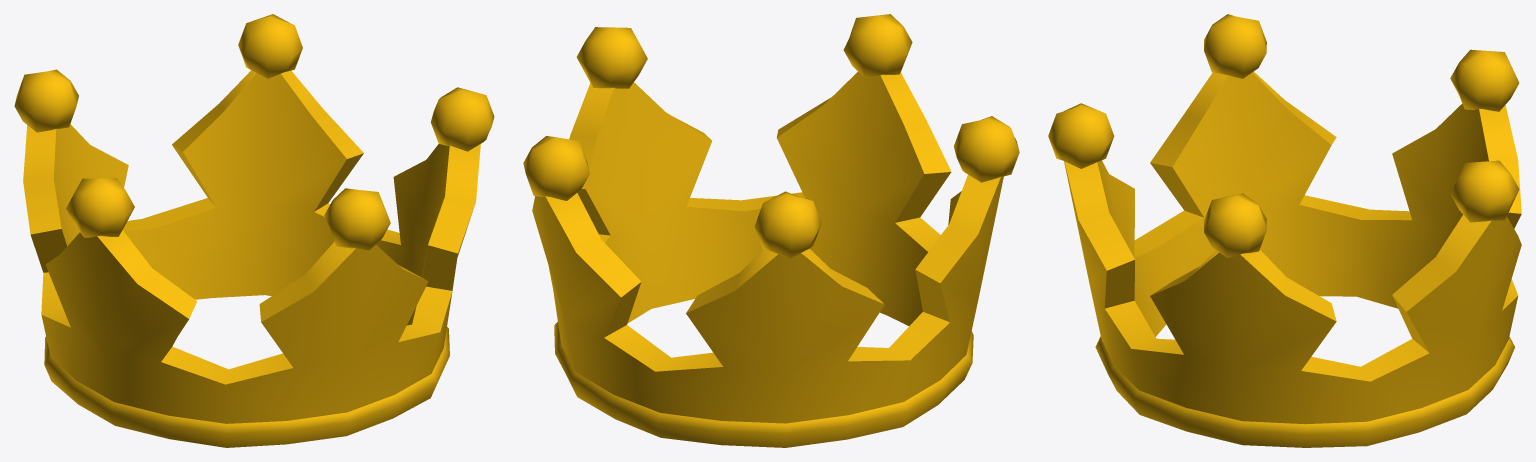
File: Headgear_48.fbx
The picture shows the model from 3 angles, left to right: view 1: azimuth 30°, elevation 25°; view 2: azimuth 150°, elevation 25°; view 3: azimuth 270°, elevation 25°; orthographic projection. The views are drawn at different scales.
Parts seen in each view (by area): view 1: Headgear_48; view 2: Headgear_48; view 3: Headgear_48.
Part boxes in pixels (x1,y1,x2,y2): Headgear_48: (14, 14, 494, 447); Headgear_48: (523, 14, 1019, 447); Headgear_48: (1048, 14, 1521, 447).
Bounding box in the file's own units: 96.71 × 56.55 × 94.
